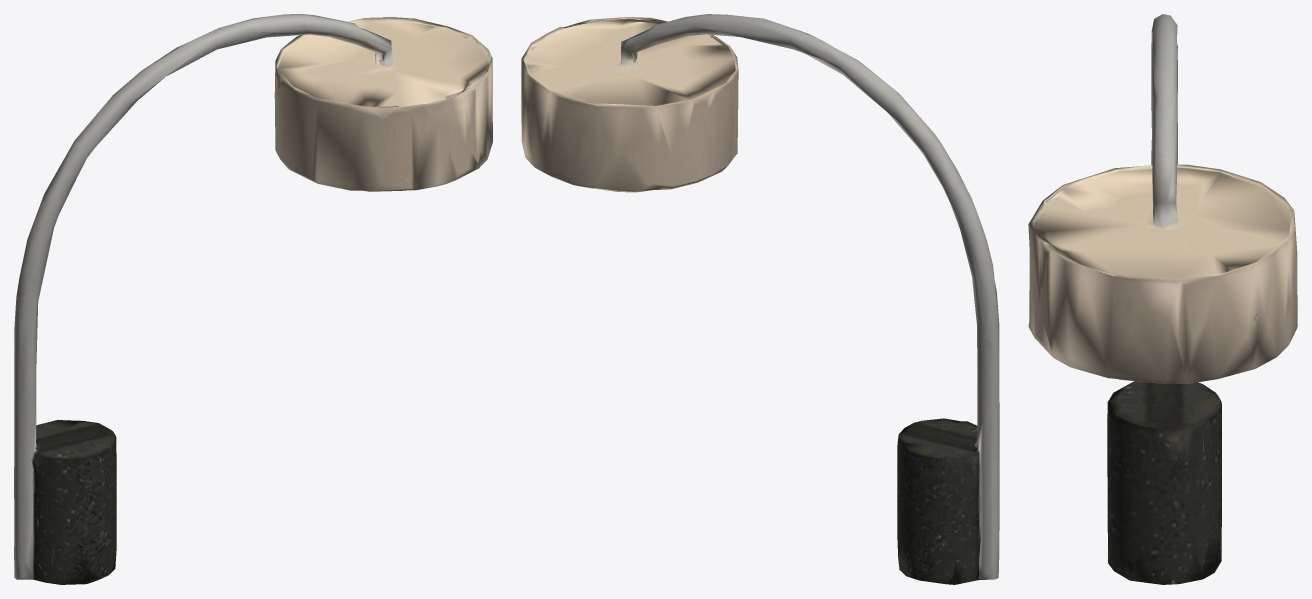
File: au_furn_lamp_loft.glb
3 renders of one model, left to right at view 1: azimuth 30°, elevation 25°; view 2: azimuth 150°, elevation 25°; view 3: azimuth 270°, elevation 25°, orthographic. The views are drawn at different scales.
Parts seen in each view (by area): view 1: tripo_node_3d0e4d87-2f00-4813-a0ab-5ec740465139; view 2: tripo_node_3d0e4d87-2f00-4813-a0ab-5ec740465139; view 3: tripo_node_3d0e4d87-2f00-4813-a0ab-5ec740465139.
Boxes of the visible parts, bbox=[...] form: tripo_node_3d0e4d87-2f00-4813-a0ab-5ec740465139: bbox=[14, 14, 492, 584]; tripo_node_3d0e4d87-2f00-4813-a0ab-5ec740465139: bbox=[521, 14, 999, 584]; tripo_node_3d0e4d87-2f00-4813-a0ab-5ec740465139: bbox=[1028, 14, 1297, 584].
Bounding box in the file's own units: 0.9454 × 0.9793 × 0.3825.
Materials: 1 (1 with a texture image).
